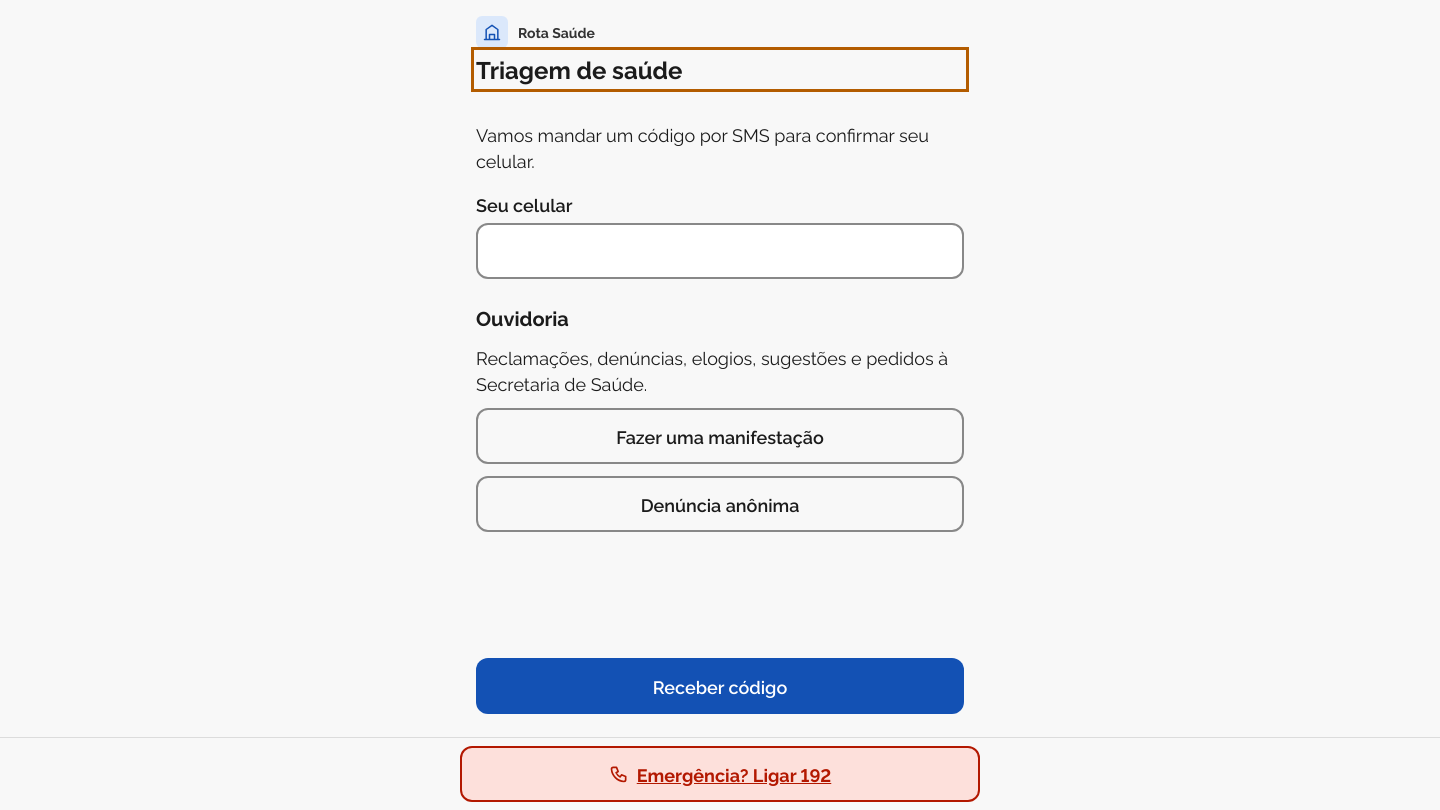
Flow — Ouvidoria (módulo 33) › Trocar número no código mantém a tela da Ouvidoria
Step 1. Click the button "Fazer uma manifestação" → (720, 436), box [476, 408, 964, 464]
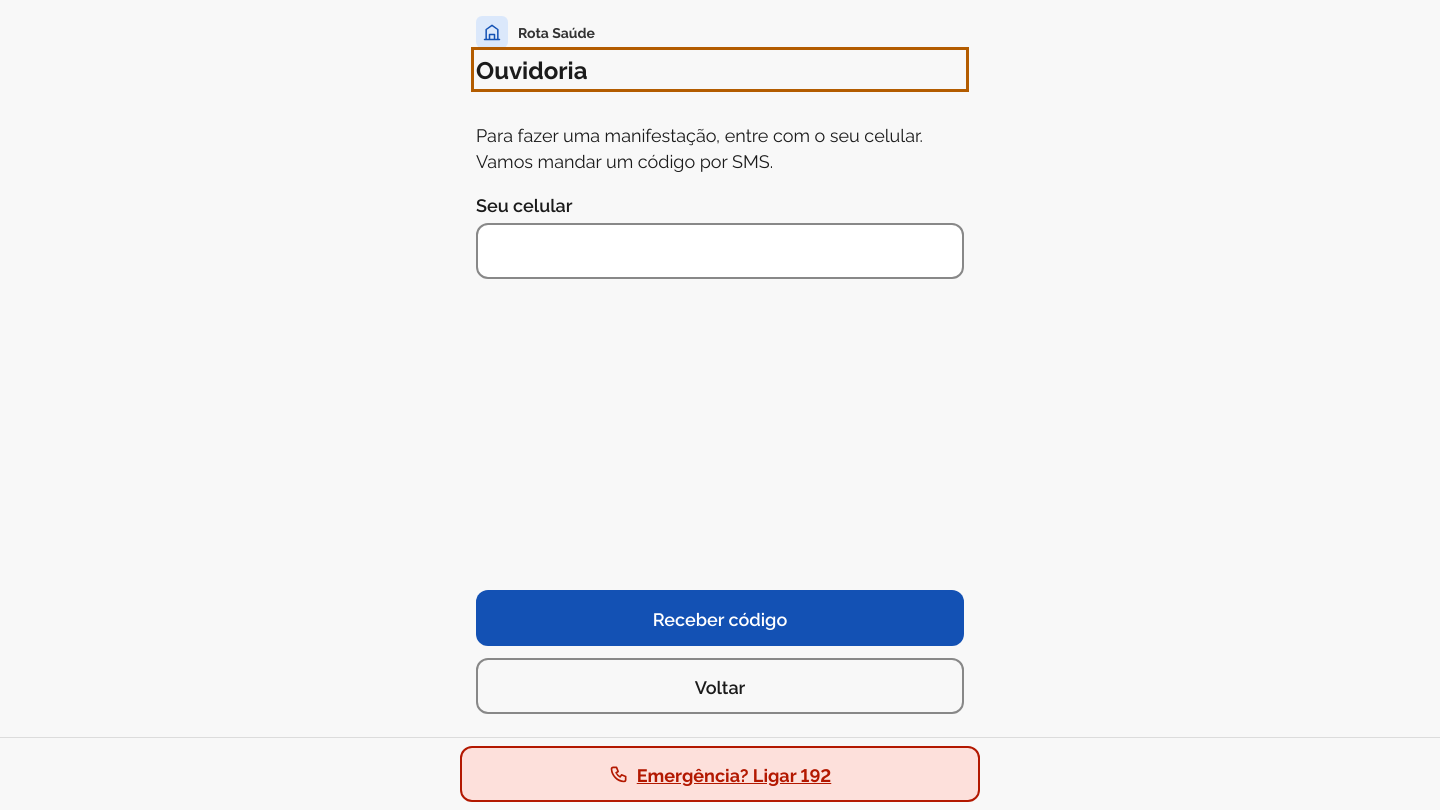
Now the heading "Ouvidoria" is shown, box [476, 52, 587, 85]
Step 2. Type "41998765432" into the field labelled "Seu celular" → (720, 251), box [476, 223, 964, 279]
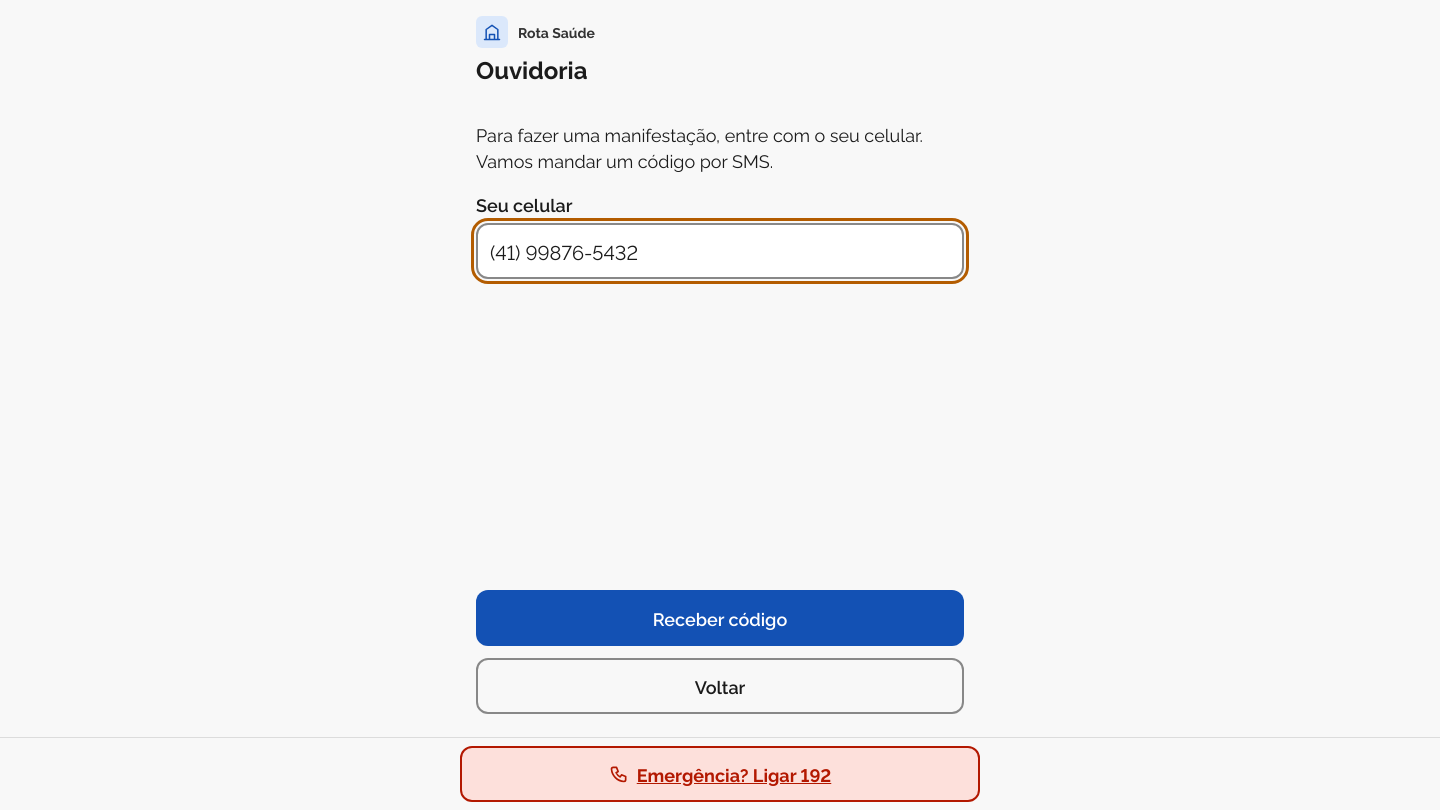
Step 3. Click the button "Receber código" → (720, 618), box [476, 590, 964, 646]
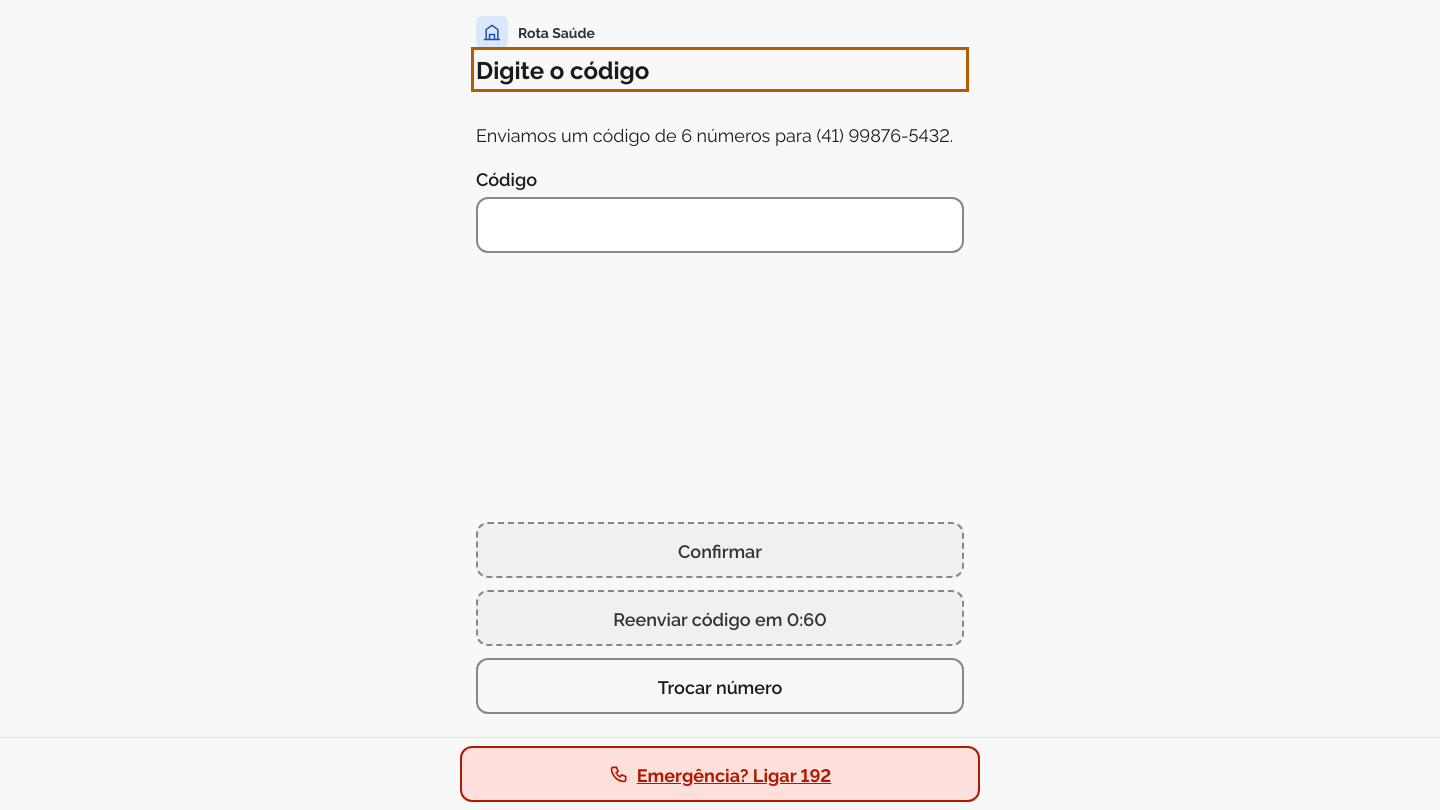
Now the field labelled "Código" is shown, box [476, 197, 964, 253]
Step 4. Click the button "Trocar número" → (720, 686), box [476, 658, 964, 714]
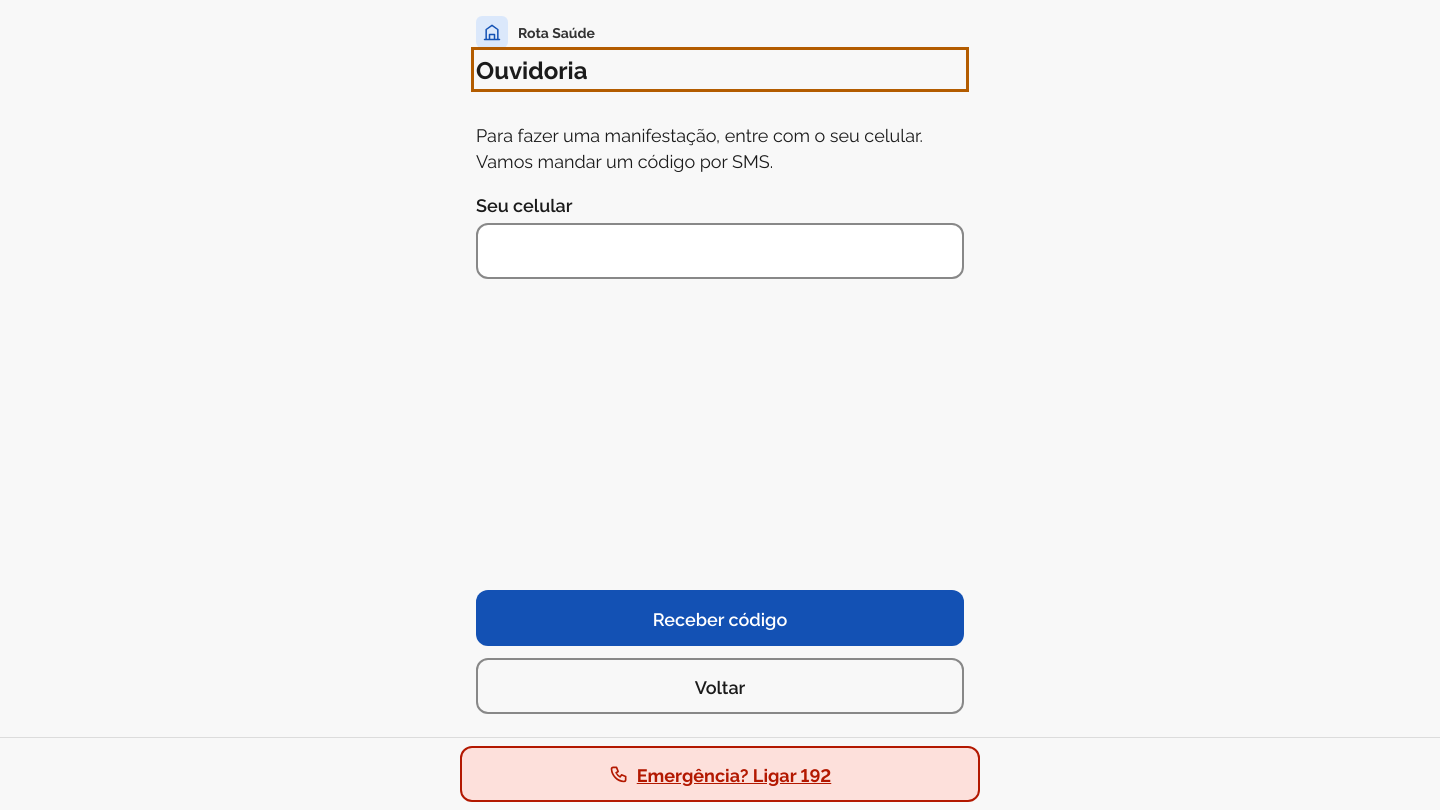
Now the heading "Ouvidoria" is shown, box [476, 52, 587, 85]
